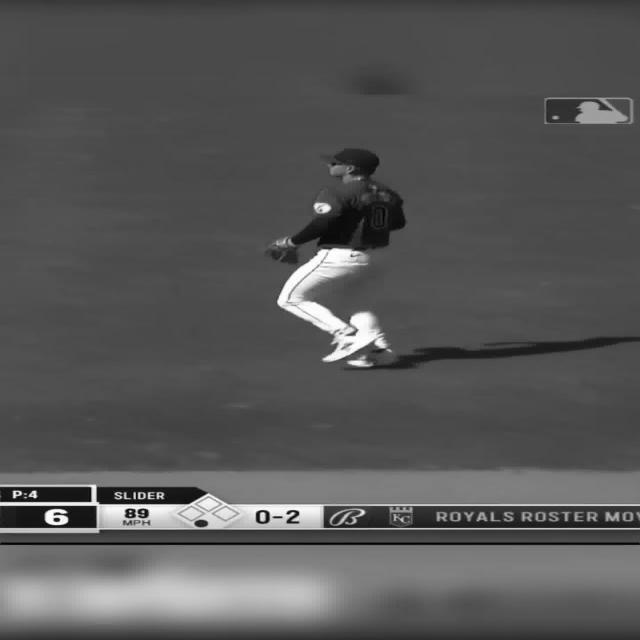baseball_glove: (264, 236, 298, 264)
shoe: (322, 331, 398, 368)
